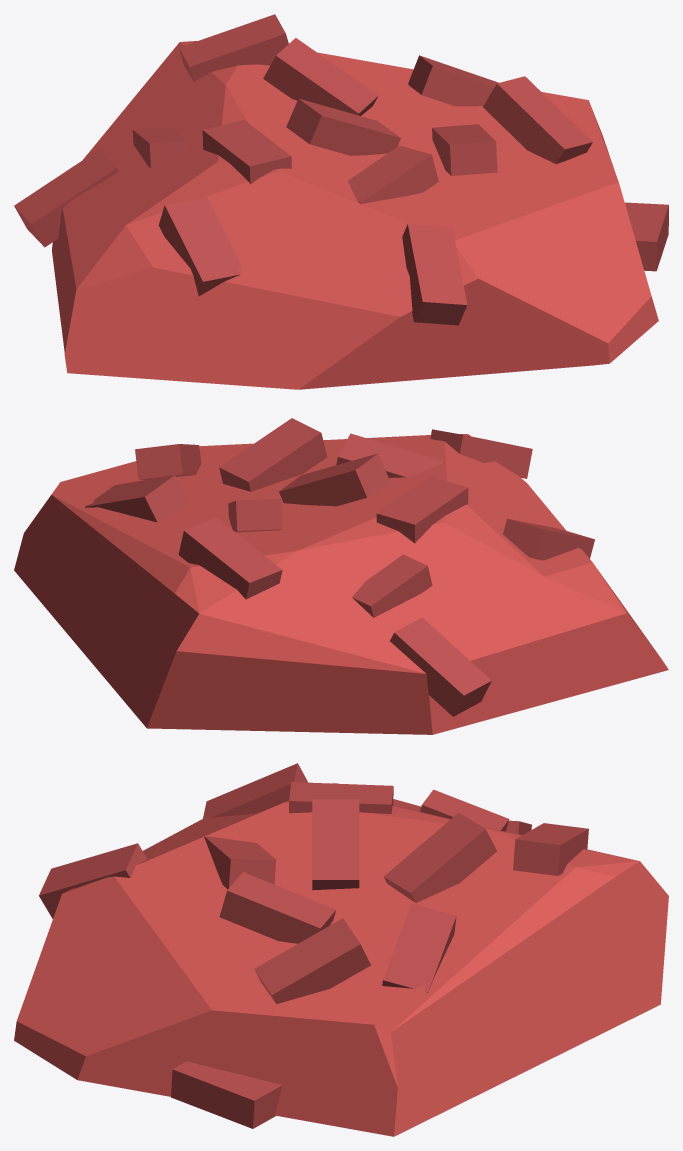
The model's file is Wh_Rubble_Red.fbx.
The picture shows the model from 3 angles, top to bottom: view 1: azimuth 30°, elevation 25°; view 2: azimuth 150°, elevation 25°; view 3: azimuth 270°, elevation 25°; orthographic projection. The views are drawn at different scales.
Visible parts, largest first — view 1: Cube.903; view 2: Cube.903; view 3: Cube.903.
Part boxes in pixels (bbox=[...]): Cube.903: bbox=[14, 14, 668, 389]; Cube.903: bbox=[14, 418, 668, 734]; Cube.903: bbox=[14, 763, 668, 1136].
Bounding box in the file's own units: 331 × 89.8 × 305.
